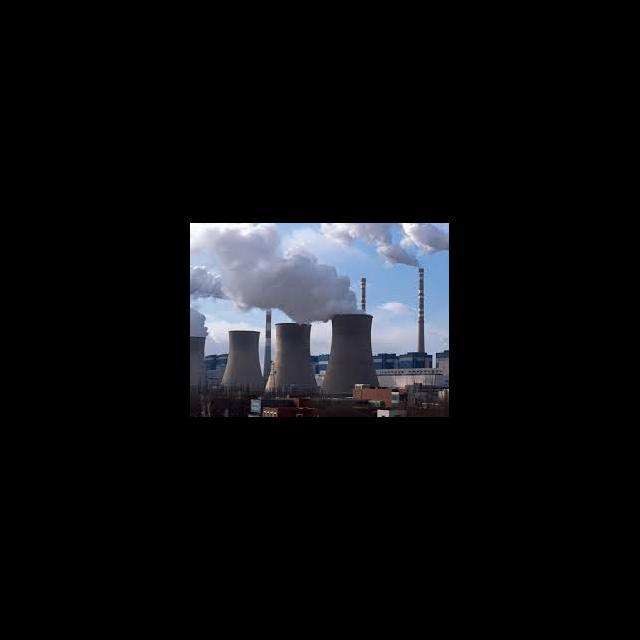Smoke: (190, 223, 360, 314), (318, 223, 424, 266), (401, 223, 449, 256)
